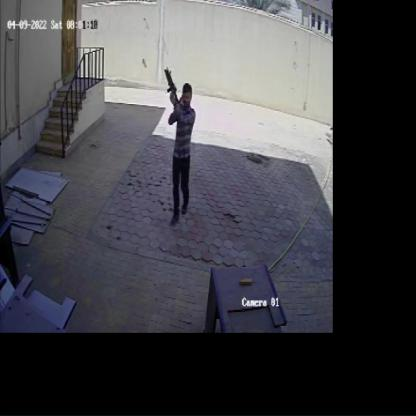handgun: (162, 60, 180, 106)
